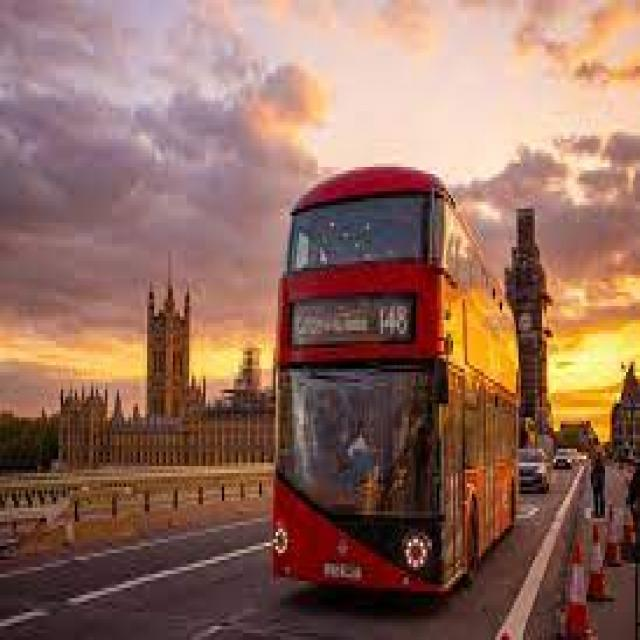BUS: (252, 157, 568, 616)
